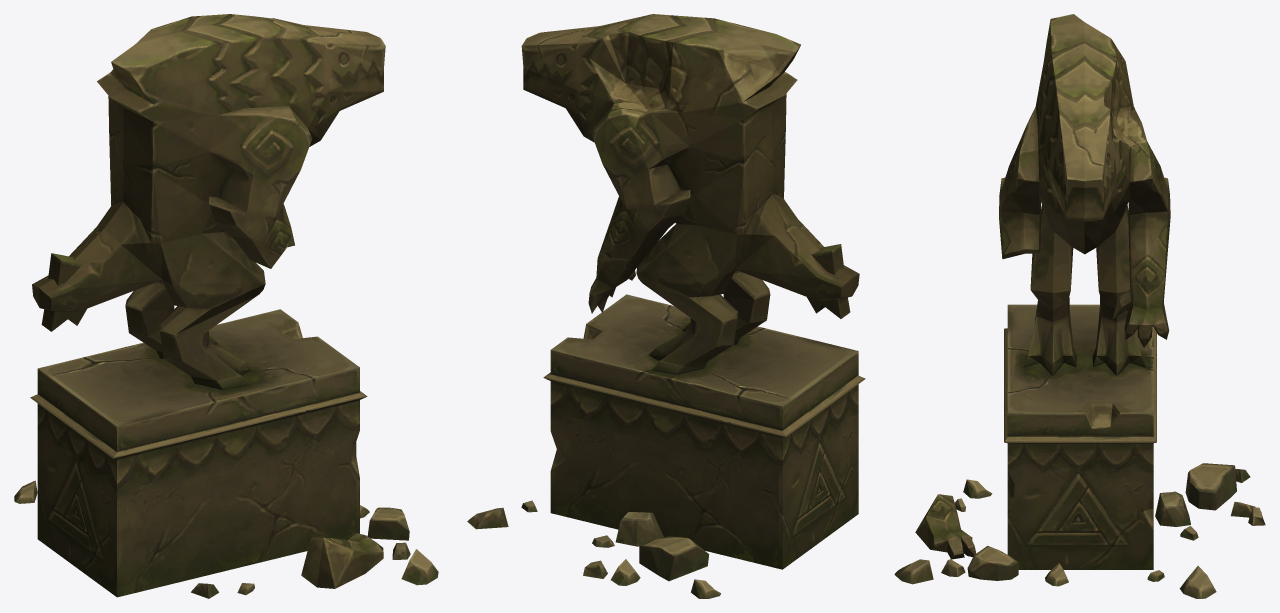
The model's file is fire_guardian_damaged_01.fbx.
3 renders of one model, left to right at view 1: azimuth 30°, elevation 25°; view 2: azimuth 150°, elevation 25°; view 3: azimuth 270°, elevation 25°, orthographic. The views are drawn at different scales.
Visible parts, largest first — view 1: obj0.399; view 2: obj0.399; view 3: obj0.399.
Part boxes in pixels (x1,y1,x2,y2): obj0.399: (14,14,438,598); obj0.399: (467,14,865,598); obj0.399: (894,14,1265,598).
Size of the model in its own units: 3.85 by 5.52 by 3.95.
